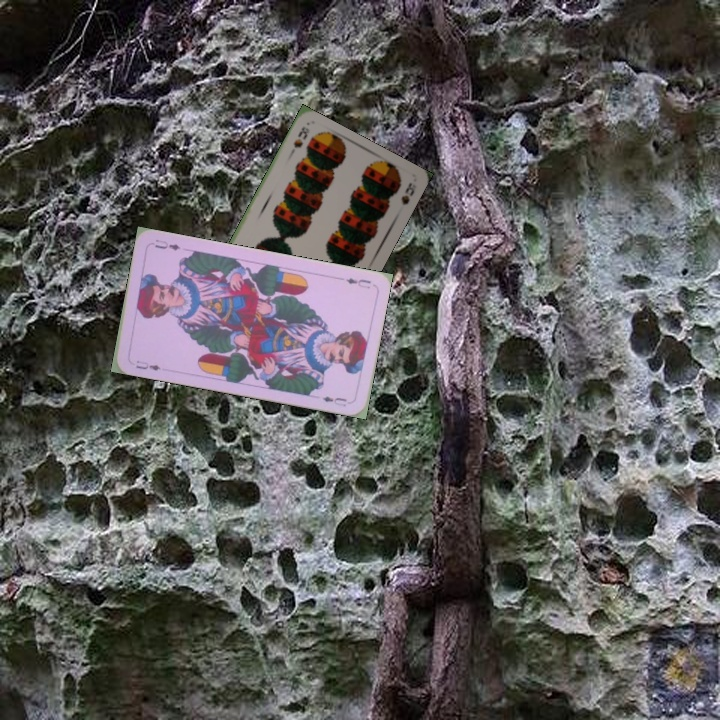EU: (342, 273, 373, 291), (132, 357, 163, 373)
S8: (284, 122, 312, 160)
